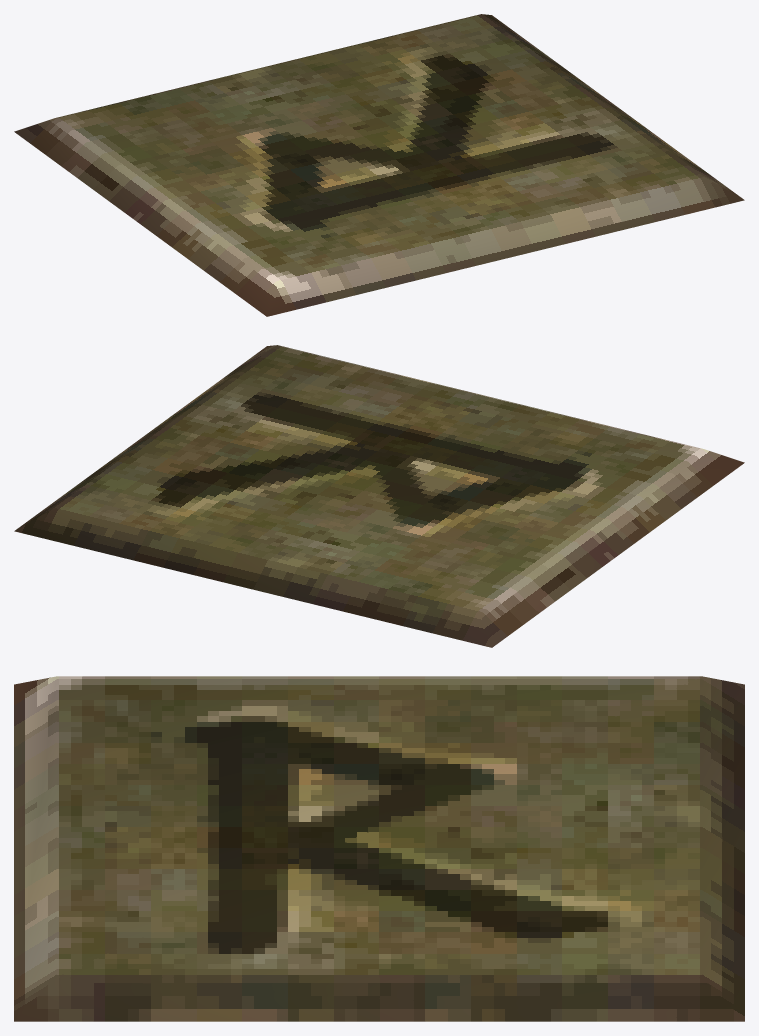
Rendered from EREBOR_RUNE_PZL_EREBOR_PZL_TILE_STATIC55.fbx.
3 views of the same model, one above another, from view 1: azimuth 30°, elevation 25°; view 2: azimuth 150°, elevation 25°; view 3: azimuth 270°, elevation 25° (orthographic). The views are drawn at different scales.
Parts seen in each view (by area): view 1: EREBOR_RUNE_PZL_EREBOR_PZL_TILE_STATIC55; view 2: EREBOR_RUNE_PZL_EREBOR_PZL_TILE_STATIC55; view 3: EREBOR_RUNE_PZL_EREBOR_PZL_TILE_STATIC55.
Part boxes in pixels (x1,y1,x2,y2): EREBOR_RUNE_PZL_EREBOR_PZL_TILE_STATIC55: (14, 14, 744, 316); EREBOR_RUNE_PZL_EREBOR_PZL_TILE_STATIC55: (14, 345, 744, 647); EREBOR_RUNE_PZL_EREBOR_PZL_TILE_STATIC55: (14, 676, 744, 1021).
Bounding box in the file's own units: 10240 × 370 × 9386.
Materials: 1 (1 with a texture image).
